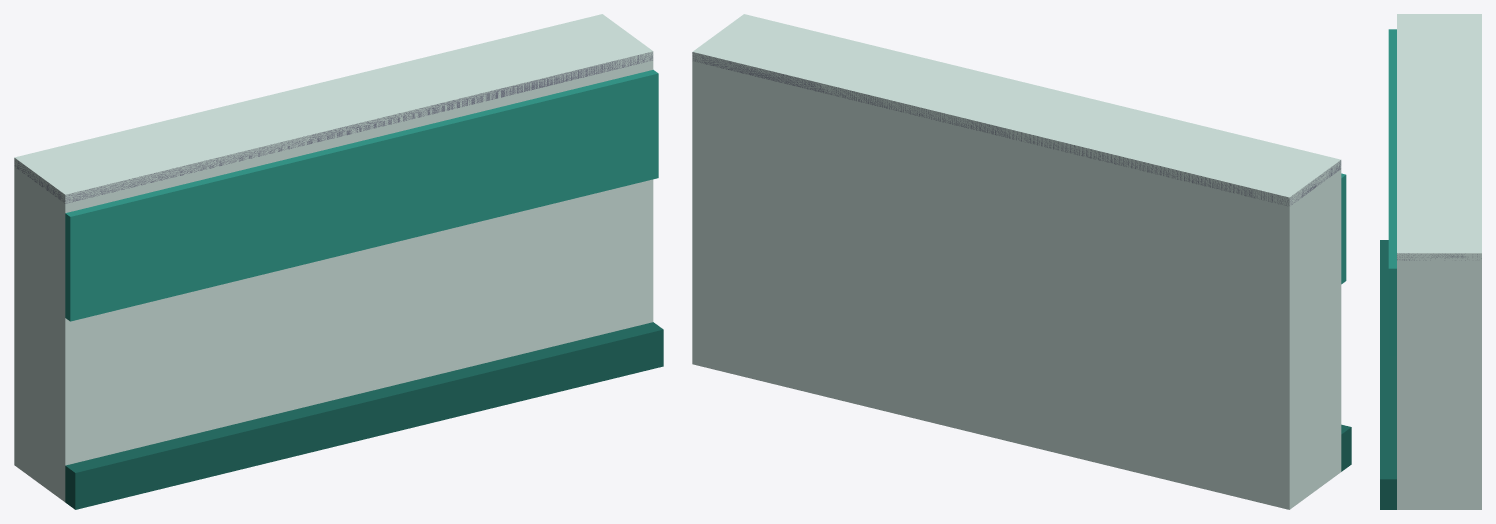
Rendered from wall.glb.
3 renders of one model, left to right at view 1: azimuth 30°, elevation 25°; view 2: azimuth 150°, elevation 25°; view 3: azimuth 270°, elevation 25°, orthographic. The views are drawn at different scales.
Parts seen in each view (by area): view 1: wall; view 2: wall; view 3: wall.
Part boxes in pixels (<box>): wall: <box>14,14,663,509</box>; wall: <box>692,14,1351,509</box>; wall: <box>1380,14,1481,509</box>.
Size of the model in its own units: 1 by 0.5 by 0.18.
Materials: 1 (1 with a texture image).
